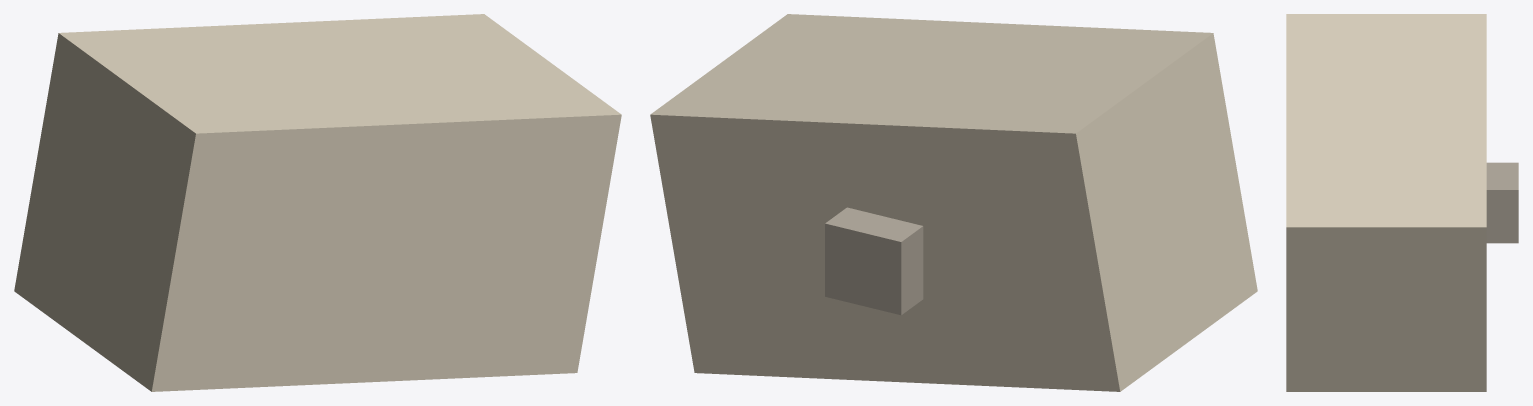
The model's file is historic-palestine-06_12_3477_3065.glb.
3 views of the same model, side by side, from view 1: azimuth 30°, elevation 25°; view 2: azimuth 150°, elevation 25°; view 3: azimuth 270°, elevation 25° (orthographic). The views are drawn at different scales.
Visible parts, largest first — view 1: Building_; view 2: Building_, Roof access hut; view 3: Building_, Roof access hut.
Boxes of the visible parts, bbox=[...] form: Building_: bbox=[14, 14, 621, 391]; Building_: bbox=[650, 14, 1257, 391]; Roof access hut: bbox=[825, 207, 923, 315]; Building_: bbox=[1286, 14, 1486, 391]; Roof access hut: bbox=[1486, 162, 1518, 243].
Bounding box in the file's own units: 14.8 × 10 × 8.7.
